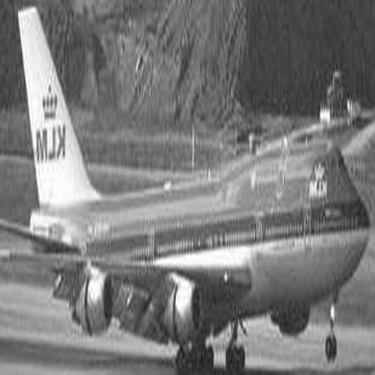airplane: (2, 3, 369, 367)
